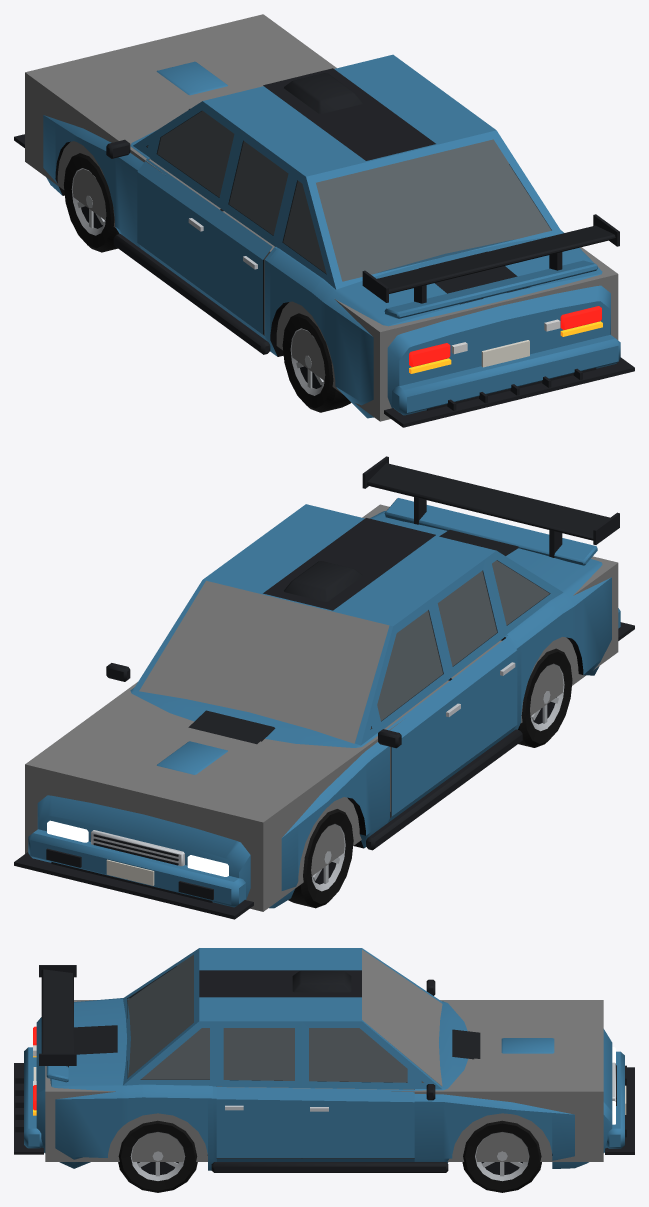
The model's file is sedan.glb.
The picture shows the model from 3 angles, top to bottom: view 1: azimuth 30°, elevation 25°; view 2: azimuth 150°, elevation 25°; view 3: azimuth 270°, elevation 25°; orthographic projection. The views are drawn at different scales.
Visible parts, largest first — view 1: sedan, sedan_Cabin, sedan_Body, sedan_Door_FL, sedan_Door_RL, sedan_Wheel_RL, sedan_Wheel_FL; view 2: sedan, sedan_Body, sedan_Cabin, sedan_Door_FL, sedan_Door_RL, sedan_Wheel_FL, sedan_Wheel_RL; view 3: sedan, sedan_Body, sedan_Cabin, sedan_Door_FR, sedan_Door_RR, sedan_Wheel_FR, sedan_Wheel_RR.
Part boxes in pixels (<box>): sedan: <box>14,14,634,427</box>; sedan_Cabin: <box>133,54,562,289</box>; sedan_Body: <box>43,115,610,418</box>; sedan_Door_FL: <box>137,101,240,294</box>; sedan_Door_RL: <box>209,129,294,334</box>; sedan_Wheel_RL: <box>282,313,351,412</box>; sedan_Wheel_FL: <box>64,153,119,252</box>; sedan: <box>14,456,634,919</box>; sedan_Body: <box>37,511,611,908</box>; sedan_Cabin: <box>133,504,563,745</box>; sedan_Door_FL: <box>372,599,462,816</box>; sedan_Door_RL: <box>431,559,517,764</box>; sedan_Wheel_FL: <box>288,809,353,908</box>; sedan_Wheel_RL: <box>518,648,572,747</box>; sedan: <box>14,949,634,1172</box>; sedan_Body: <box>33,979,615,1170</box>; sedan_Cabin: <box>123,948,442,1089</box>; sedan_Door_FR: <box>302,1021,414,1157</box>; sedan_Door_RR: <box>216,1021,301,1157</box>; sedan_Wheel_FR: <box>462,1120,541,1192</box>; sedan_Wheel_RR: <box>118,1120,197,1192</box>.
Size of what is drawn, in the model's own units: 2.12 by 1.51 by 4.96.
